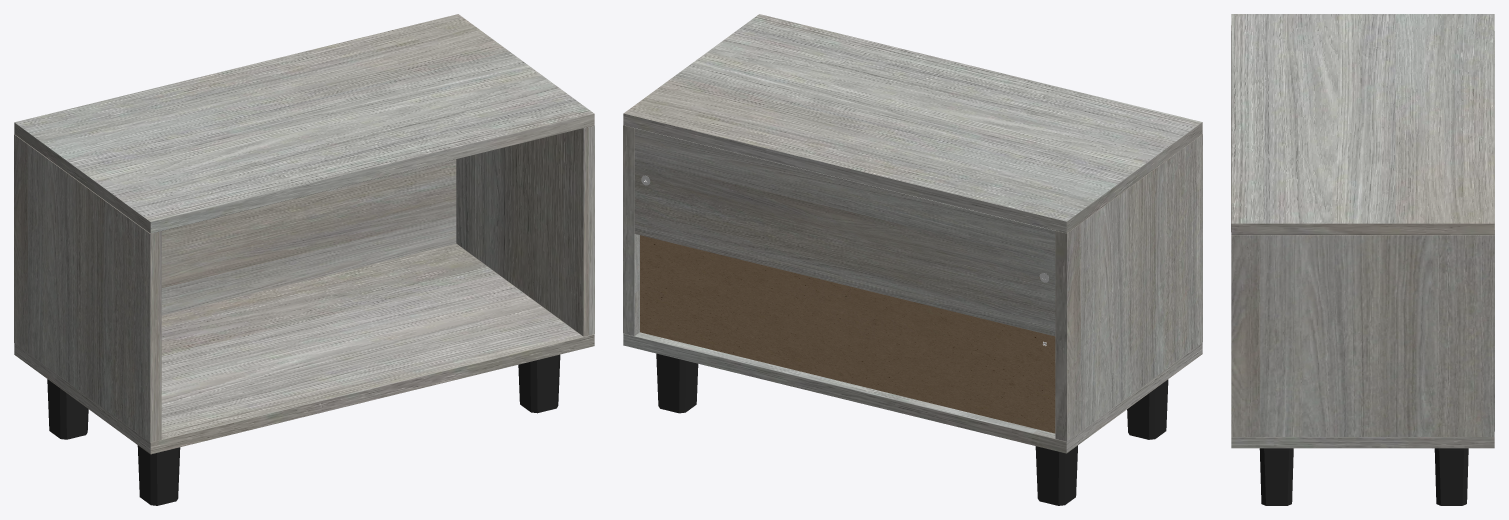
The picture shows the model from 3 angles, left to right: view 1: azimuth 30°, elevation 25°; view 2: azimuth 150°, elevation 25°; view 3: azimuth 270°, elevation 25°; orthographic projection. The views are drawn at different scales.
Parts seen in each view (by area): view 1: group_0.114, Plane, group_0.115; view 2: group_0.114, Plane.001, group_0.115; view 3: group_0.114, group_0.115.
Boxes of the visible parts, bbox=[...] form: group_0.114: bbox=[14, 14, 594, 454]; Plane: bbox=[161, 159, 456, 315]; group_0.115: bbox=[47, 354, 560, 505]; group_0.114: bbox=[623, 14, 1202, 453]; Plane.001: bbox=[640, 177, 1055, 433]; group_0.115: bbox=[656, 353, 1168, 505]; group_0.114: bbox=[1231, 14, 1494, 448]; group_0.115: bbox=[1259, 448, 1468, 505].
Bounding box in the file's own units: 0.7006 × 0.453 × 0.372.
4 materials, 2 textured.
